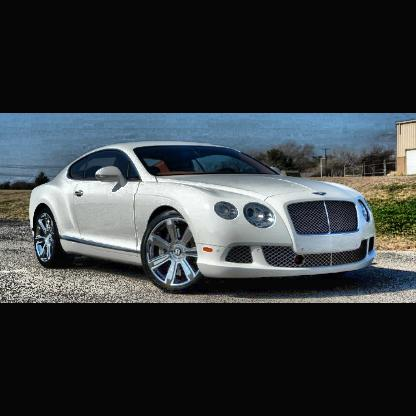Bentley Continental GT Coupe 2012: (30, 140, 379, 294)
